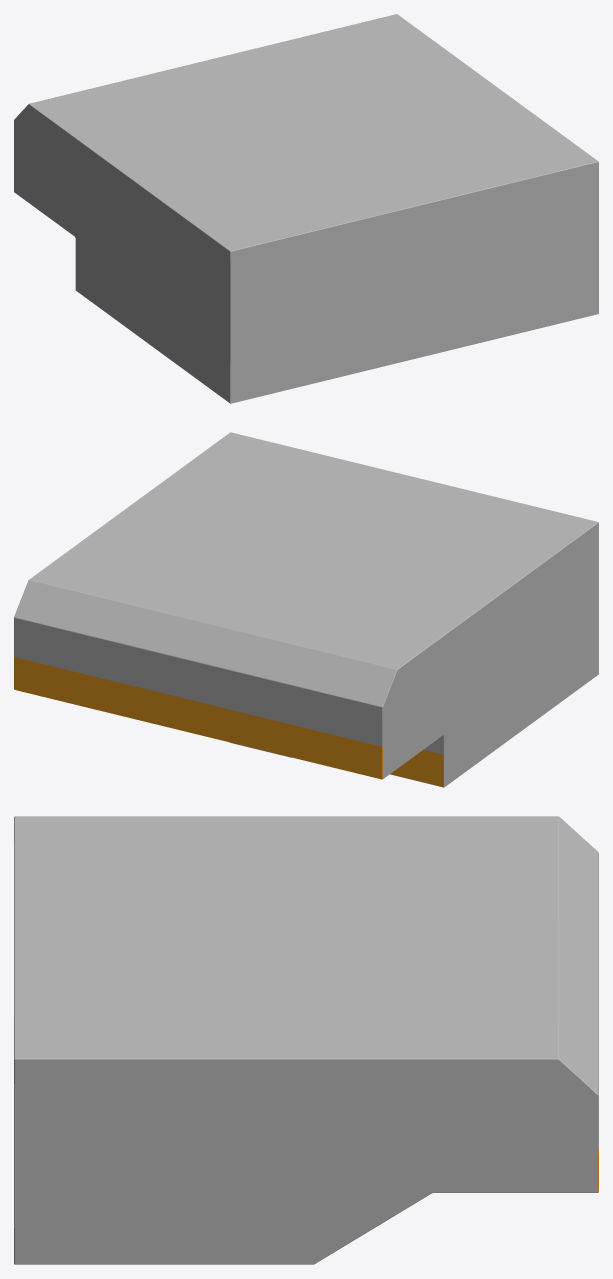
The model's file is Maintenance.fbx.
The picture shows the model from 3 angles, top to bottom: view 1: azimuth 30°, elevation 25°; view 2: azimuth 150°, elevation 25°; view 3: azimuth 270°, elevation 25°; orthographic projection. The views are drawn at different scales.
Visible parts, largest first — view 1: Maintenance; view 2: Maintenance; view 3: Maintenance.
Boxes of the visible parts, x1=… form: Maintenance: x1=14, y1=14, x2=598, y2=403; Maintenance: x1=14, y1=432, x2=598, y2=787; Maintenance: x1=14, y1=816, x2=598, y2=1264.
Bounding box in the file's own units: 1162 × 471 × 1182.
